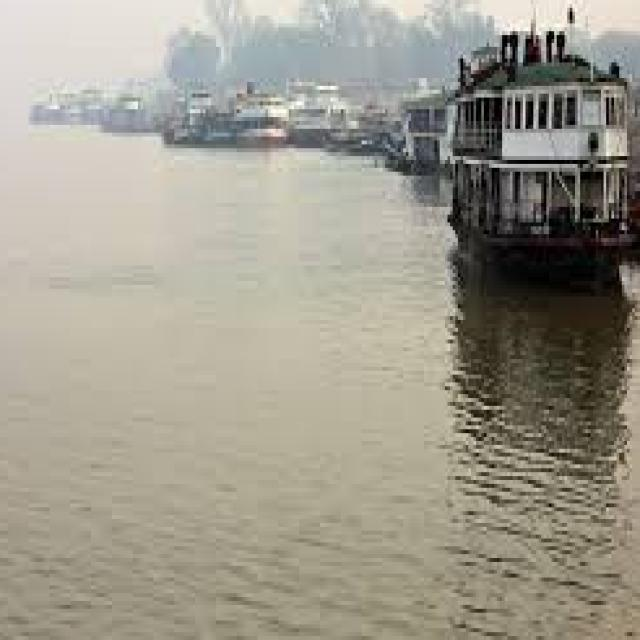houseboat: (447, 31, 640, 273)
